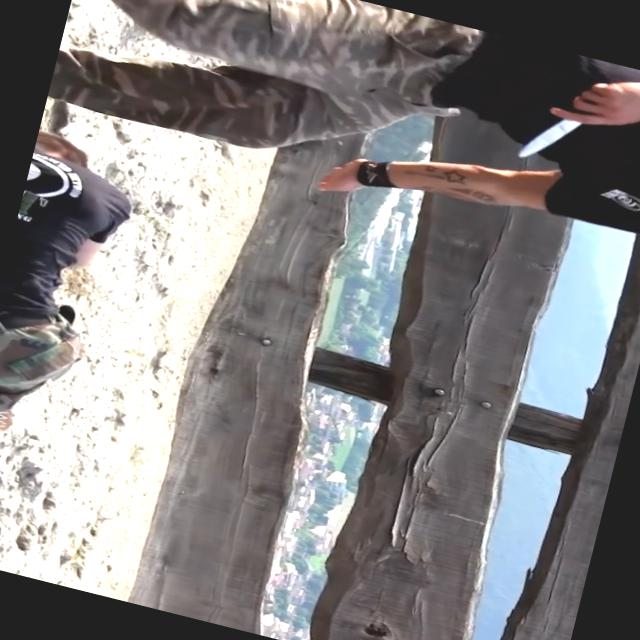knife: (510, 66, 628, 184)
